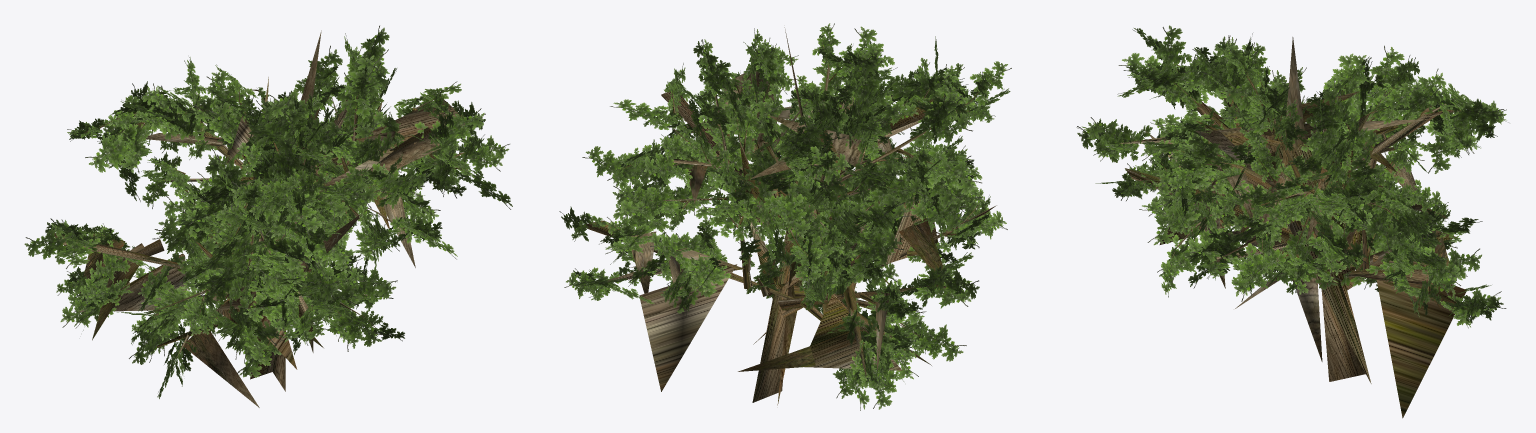
3 renders of one model, left to right at view 1: azimuth 30°, elevation 25°; view 2: azimuth 150°, elevation 25°; view 3: azimuth 270°, elevation 25°, orthographic. The views are drawn at different scales.
Visible parts, largest first — view 1: branches, branches.001; view 2: branches, branches.001; view 3: branches, branches.001.
Boxes of the visible parts, x1,y1,x2,y2 form: branches: (24,25,512,398); branches.001: (54,30,470,407); branches: (559,23,1011,410); branches.001: (580,27,996,405); branches: (1076,25,1508,328); branches.001: (1120,37,1479,418).
Size of the model in its own units: 32.88 by 26.66 by 31.64.
Materials: 2 (2 with a texture image).
